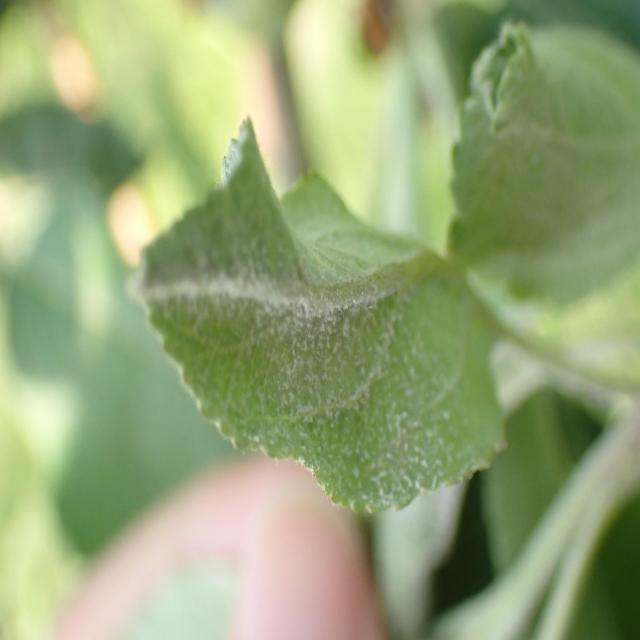Powdery_mildew: (133, 107, 486, 510), (465, 29, 640, 322)
